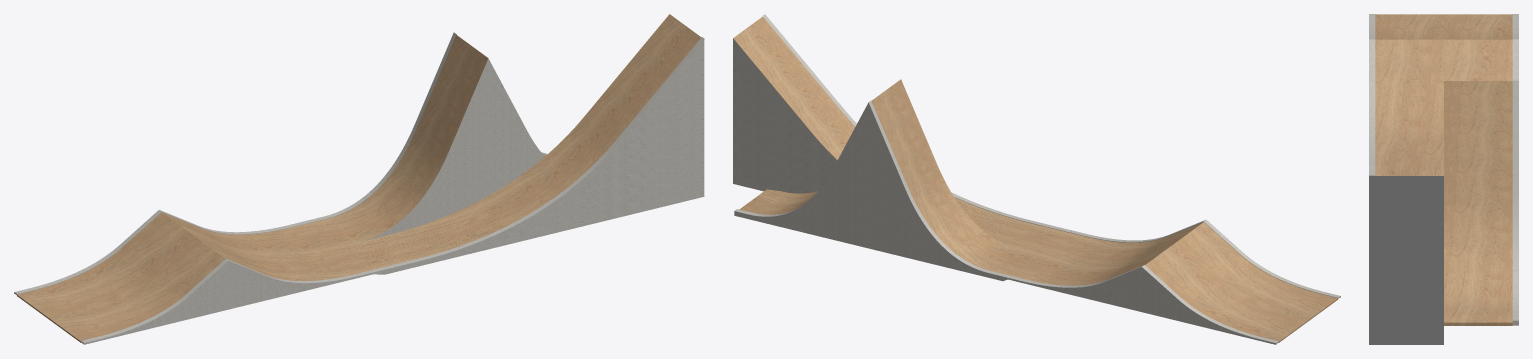
Rendered from ramp.FBX.
The picture shows the model from 3 angles, left to right: view 1: azimuth 30°, elevation 25°; view 2: azimuth 150°, elevation 25°; view 3: azimuth 270°, elevation 25°; orthographic projection. The views are drawn at different scales.
Parts seen in each view (by area): view 1: Box299; view 2: Box299; view 3: Box299.
Part boxes in pixels (x1,y1,x2,y2): Box299: (14, 14, 704, 344); Box299: (733, 14, 1340, 344); Box299: (1369, 14, 1518, 344).
Size of what is drawn, in the model's own units: 5763 by 1398 by 1120.
3 materials, 2 textured.
